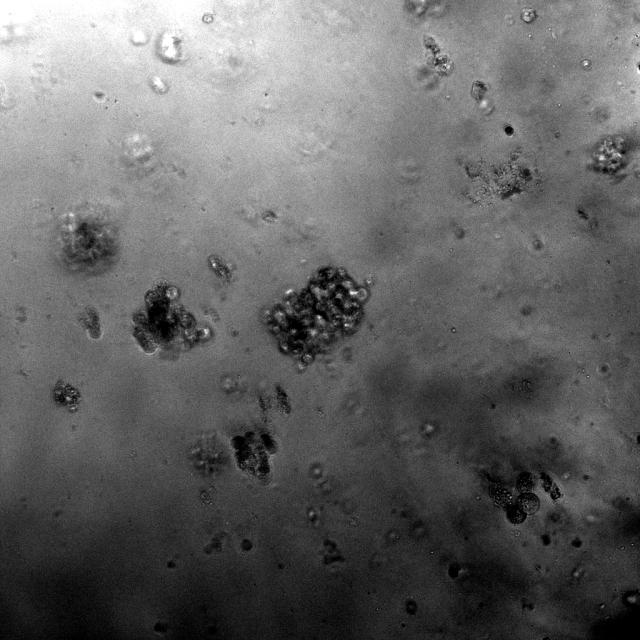organoid: (264, 266, 368, 364), (132, 281, 212, 353), (54, 202, 120, 272), (490, 472, 539, 524), (231, 430, 276, 483), (592, 137, 624, 173), (423, 37, 452, 76), (52, 379, 81, 411), (78, 306, 102, 339), (540, 472, 561, 500), (471, 80, 486, 102), (521, 8, 536, 23), (241, 538, 252, 552), (504, 124, 514, 137)
